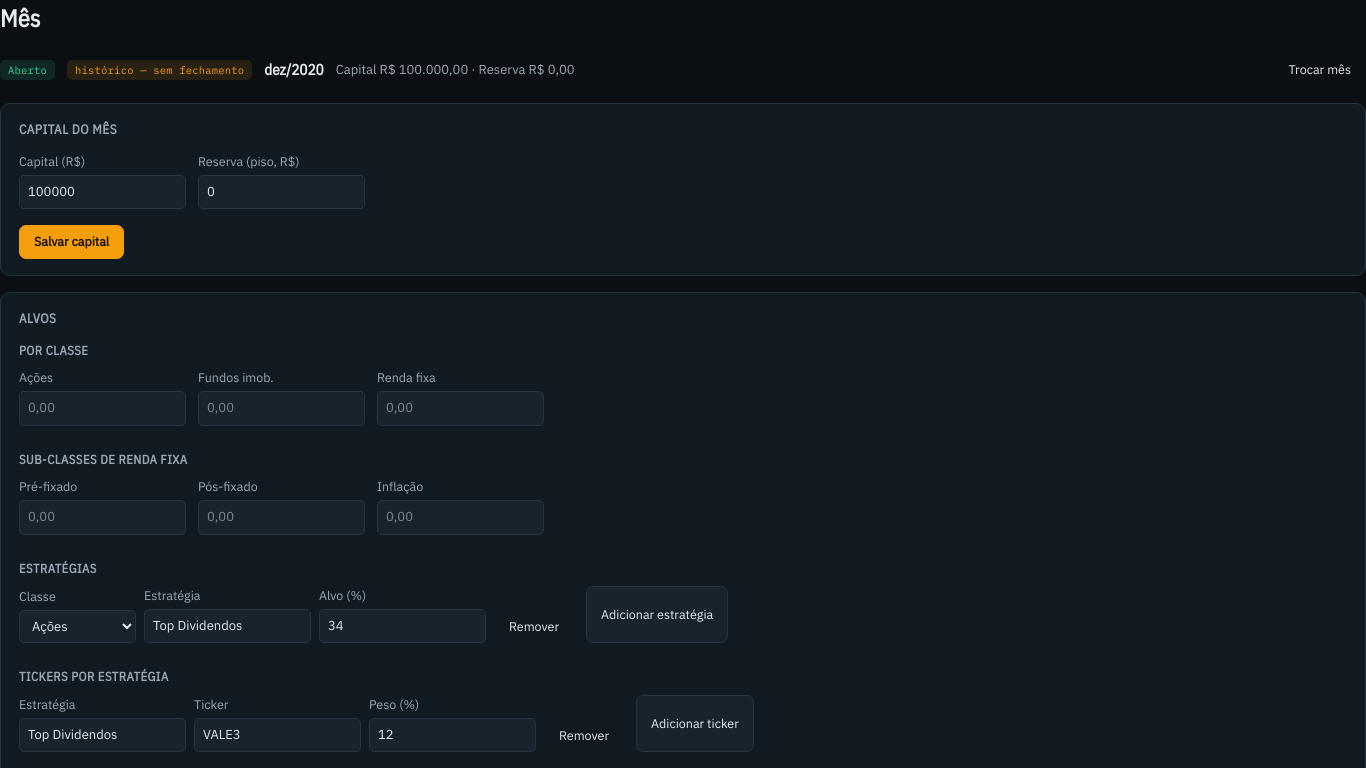
Scenario: Month window states › chips a backdated month and reopens the opener at the default
Expected: the text "histórico — sem fechamento" is shown, [67,60,252,80]
Click the button "Trocar mês": (1320,70) [1274,53,1365,87]
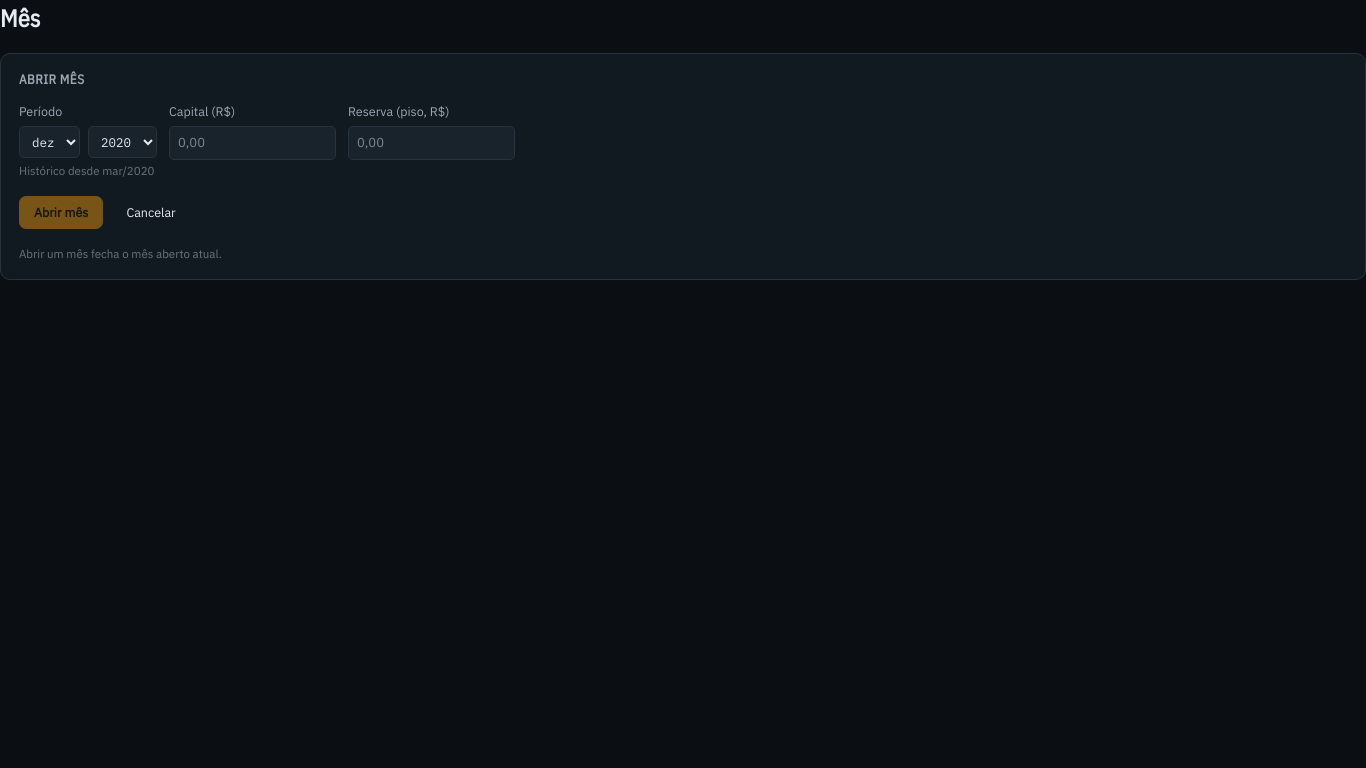
Result: the form with test id "month-opener" is shown at [19,103,515,261]
Result: the dropdown named "Ano" shows "2020" at [88,126,157,158]
Result: the dropdown named "Mês" shows "dez" at [19,126,80,158]
